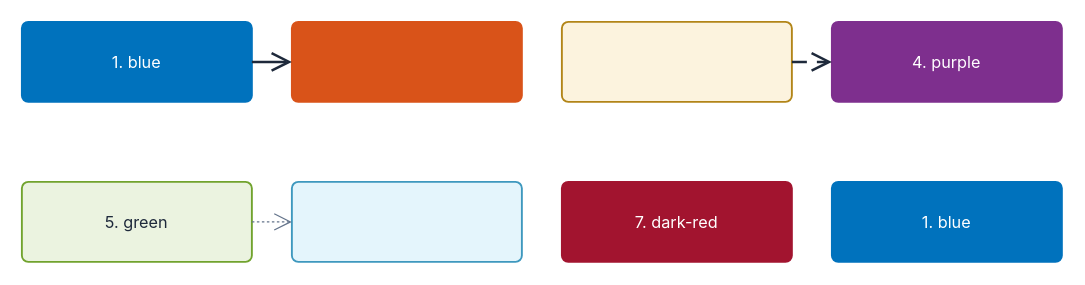
Image size: 1085x285. Some labels were removed from this diagram. Here are the shapes that lost their labels. From the top down, the box of each, then its label:
(290, 20, 522, 102): 2. orange
(560, 20, 792, 102): 3. yellow
(290, 180, 522, 262): 6. cyan
